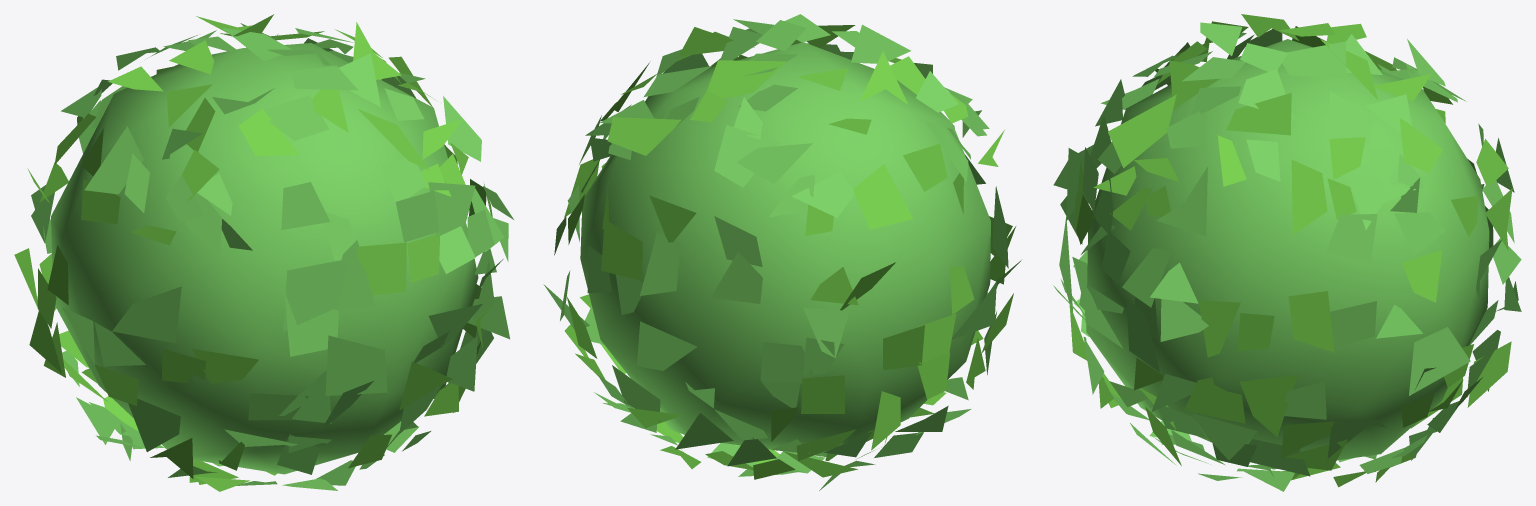
The model's file is Bush.fbx.
3 views of the same model, side by side, from view 1: azimuth 30°, elevation 25°; view 2: azimuth 150°, elevation 25°; view 3: azimuth 270°, elevation 25° (orthographic). The views are drawn at different scales.
Visible parts, largest first — view 1: Cube; view 2: Cube; view 3: Cube.
Part boxes in pixels (box(x1,y1,x2,y2)): Cube: box(14, 14, 513, 491); Cube: box(543, 14, 1021, 490); Cube: box(1053, 14, 1521, 491).
Size of the model in its own units: 189 by 191 by 191.
